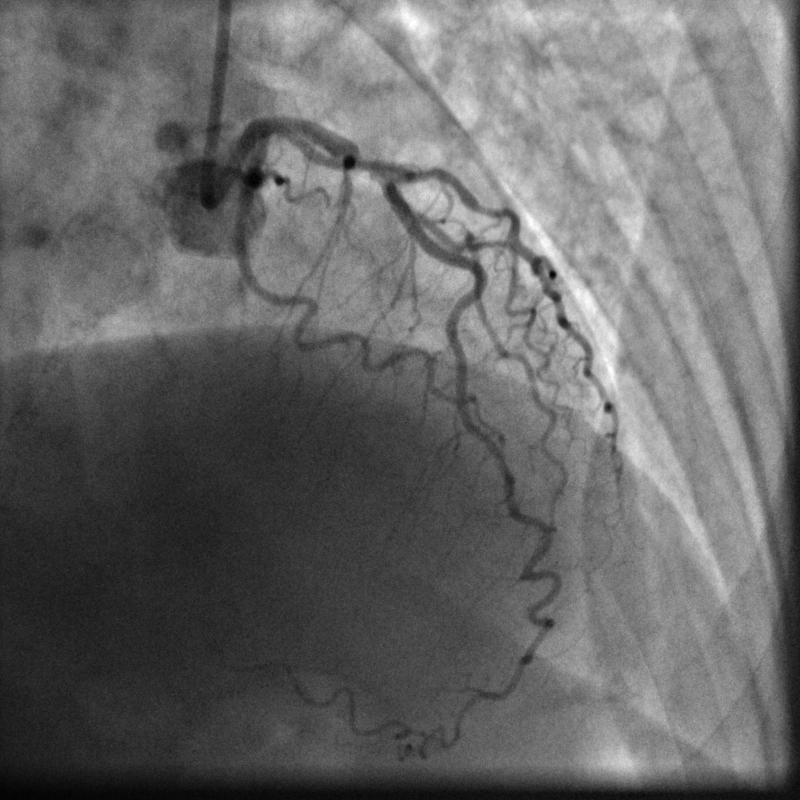Stenosis: (349, 149, 376, 177)
